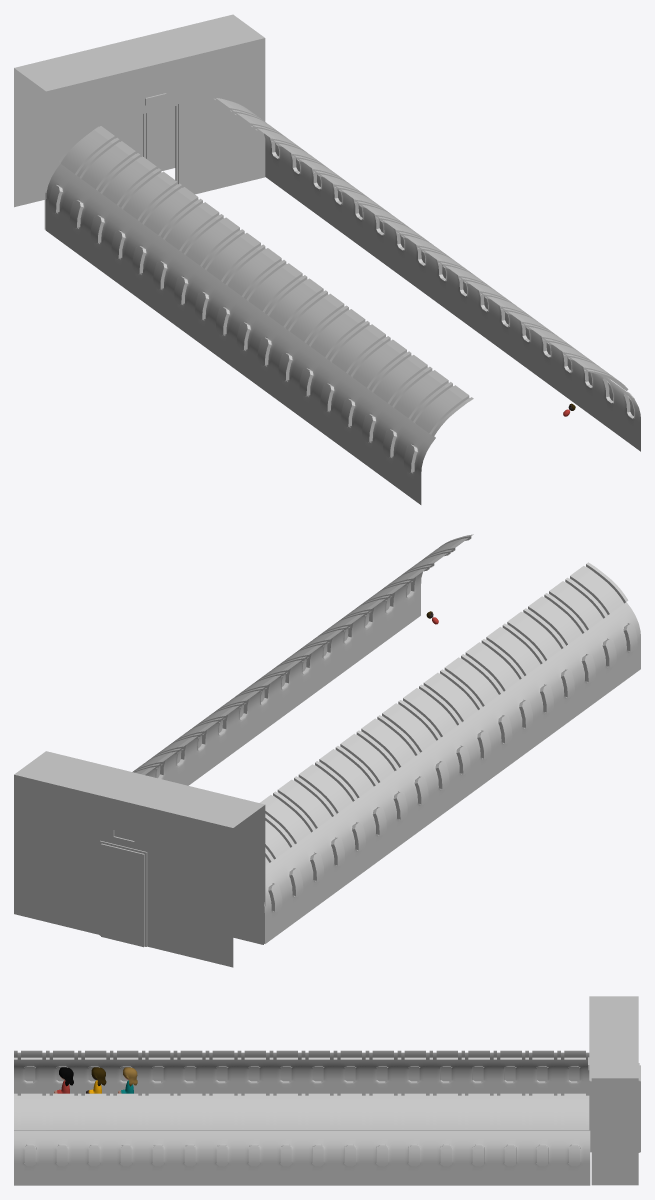
File: SM_Update_babyblack_plane.fbx
The picture shows the model from 3 angles, top to bottom: view 1: azimuth 30°, elevation 25°; view 2: azimuth 150°, elevation 25°; view 3: azimuth 270°, elevation 25°; orthographic projection. The views are drawn at different scales.
Visible parts, largest first — view 1: SM_Chassis_plane, SM_wall_back, SM_wall; view 2: SM_Chassis_plane, SM_wall, SM_wall_back; view 3: SM_Chassis_plane, SM_wall_back, SM_wall.
Part boxes in pixels (x1,y1,x2,y2): SM_Chassis_plane: [45, 96, 640, 504]; SM_wall_back: [44, 37, 265, 229]; SM_wall: [14, 14, 263, 207]; SM_Chassis_plane: [132, 534, 640, 943]; SM_wall: [14, 752, 263, 967]; SM_wall_back: [45, 751, 265, 944]; SM_Chassis_plane: [14, 1050, 590, 1185]; SM_wall_back: [588, 996, 638, 1185]; SM_wall: [591, 996, 640, 1152].
Bounding box in the file's own units: 6.28 × 3.69 × 19.62.
